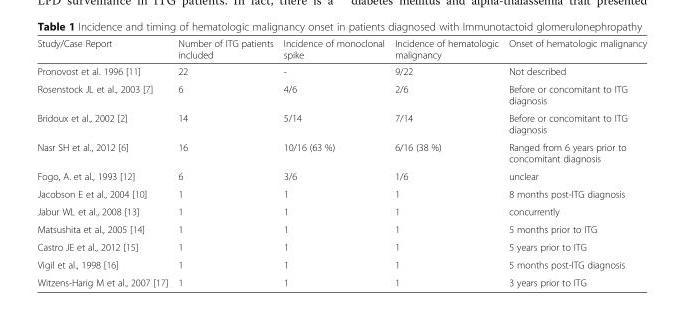table: (36, 37, 646, 287)
table column: (503, 37, 646, 287), (36, 37, 172, 287), (389, 37, 503, 287), (277, 37, 389, 287), (172, 37, 277, 287)
table column header: (36, 37, 646, 62)
table row: (36, 137, 646, 167), (36, 79, 646, 108), (36, 108, 646, 137), (36, 37, 646, 62), (36, 184, 646, 202), (36, 202, 646, 220), (36, 237, 646, 255), (36, 255, 646, 273), (36, 62, 646, 79), (36, 167, 646, 184), (36, 220, 646, 237), (36, 273, 646, 287)
